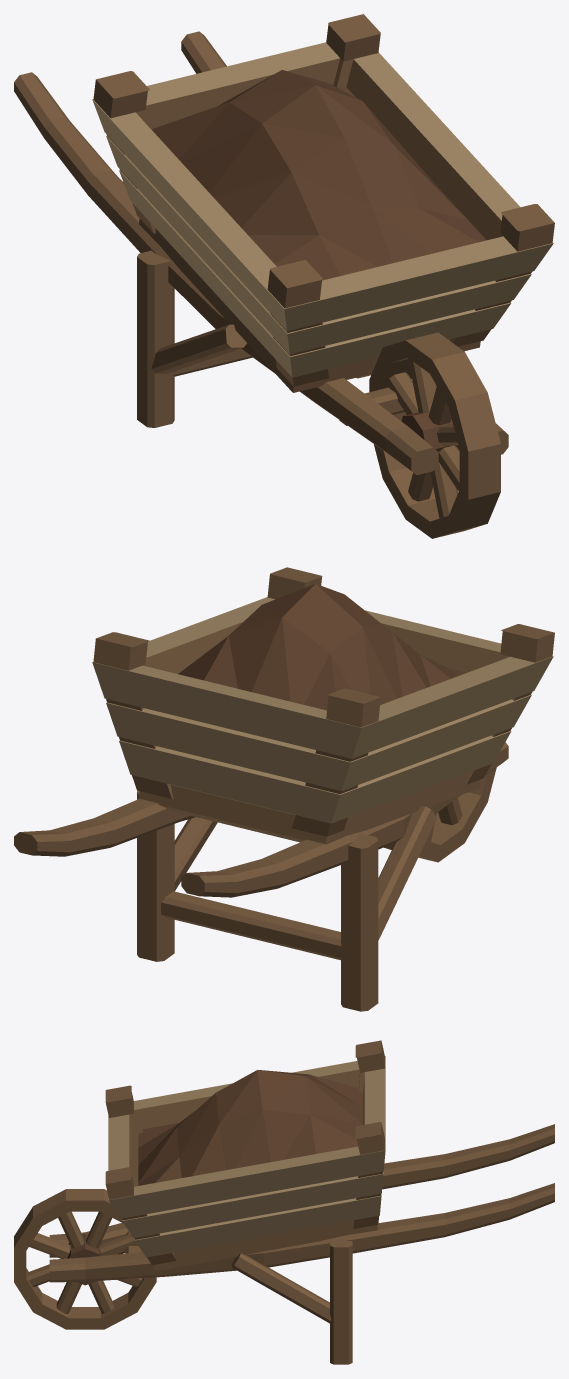
The model's file is wheelbarrow-13f422.glb.
3 views of the same model, one above another, from view 1: azimuth 30°, elevation 25°; view 2: azimuth 150°, elevation 25°; view 3: azimuth 270°, elevation 25° (orthographic). The views are drawn at different scales.
Parts seen in each view (by area): view 1: object 1, object 3, wheel; view 2: object 1, object 3, wheel; view 3: object 1, object 3, wheel.
Boxes of the visible parts, left/top/right/bottom form: object 1: left=14, top=14, right=554, bottom=474; object 3: left=151, top=70, right=486, bottom=280; wheel: left=369, top=332, right=500, bottom=538; object 1: left=14, top=567, right=554, bottom=1011; object 3: left=178, top=584, right=466, bottom=710; wheel: left=384, top=767, right=496, bottom=862; object 1: left=49, top=1040, right=554, bottom=1364; object 3: left=138, top=1070, right=363, bottom=1185; wheel: left=14, top=1189, right=156, bottom=1329.
Bounding box in the file's own units: 0.692 × 0.8657 × 1.67.
